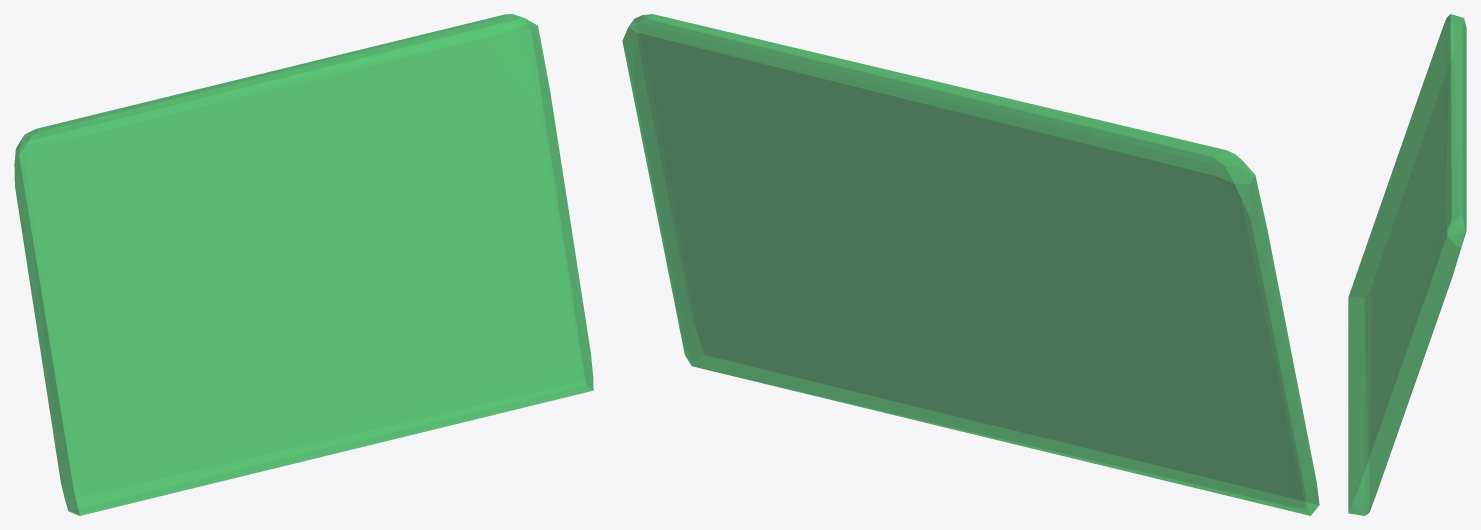
3 renders of one model, left to right at view 1: azimuth 30°, elevation 25°; view 2: azimuth 150°, elevation 25°; view 3: azimuth 270°, elevation 25°, orthographic. The views are drawn at different scales.
Parts seen in each view (by area): view 1: Shape_IndexedFaceSet.001_Shape_IndexedFaceSet.11765; view 2: Shape_IndexedFaceSet.001_Shape_IndexedFaceSet.11765; view 3: Shape_IndexedFaceSet.001_Shape_IndexedFaceSet.11765.
Boxes of the visible parts, x1,y1,x2,y2 form: Shape_IndexedFaceSet.001_Shape_IndexedFaceSet.11765: (14, 14, 593, 515); Shape_IndexedFaceSet.001_Shape_IndexedFaceSet.11765: (622, 14, 1319, 515); Shape_IndexedFaceSet.001_Shape_IndexedFaceSet.11765: (1348, 14, 1466, 515).
Bounding box in the file's own units: 1.3 × 0.8017 × 0.2952.
